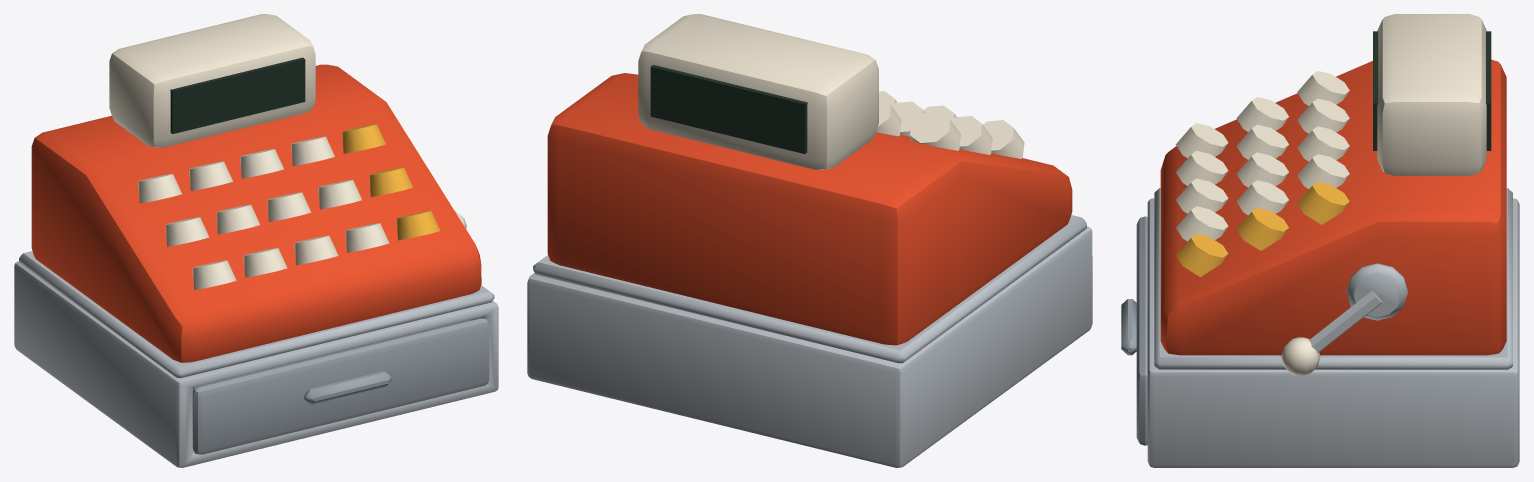
The model's file is Kitchen_Register.fbx.
3 renders of one model, left to right at view 1: azimuth 30°, elevation 25°; view 2: azimuth 150°, elevation 25°; view 3: azimuth 270°, elevation 25°, orthographic. The views are drawn at different scales.
Visible parts, largest first — view 1: Body, Base, Drawer, DisplayBox, Buttons, Chrome, Display, FunctionButtons; view 2: Body, Base, DisplayBox, Chrome, Display, Buttons; view 3: Body, Base, DisplayBox, Buttons, Chrome, FunctionButtons, Drawer, Display, CrankKnob.
Boxes of the visible parts, x1,y1,x2,y2 form: Body: [31, 64, 481, 362]; Base: [14, 261, 498, 467]; Drawer: [192, 318, 489, 454]; DisplayBox: [109, 14, 315, 147]; Buttons: [138, 136, 389, 289]; Chrome: [19, 251, 494, 377]; Display: [170, 57, 305, 133]; FunctionButtons: [342, 124, 440, 240]; Body: [547, 73, 1072, 345]; Base: [527, 226, 1092, 467]; DisplayBox: [638, 14, 878, 169]; Chrome: [533, 215, 1086, 363]; Display: [650, 65, 807, 153]; Buttons: [876, 91, 1024, 158]; Body: [1160, 59, 1506, 355]; Base: [1147, 198, 1519, 467]; DisplayBox: [1377, 14, 1486, 175]; Buttons: [1176, 71, 1349, 241]; Chrome: [1154, 188, 1512, 369]; FunctionButtons: [1176, 182, 1349, 276]; Drawer: [1121, 216, 1147, 445]; Display: [1373, 31, 1491, 150]; CrankKnob: [1281, 337, 1320, 376].
Bounding box in the file's own units: 209 × 169 × 182.
